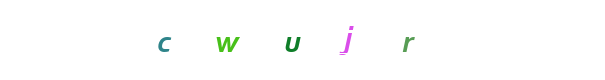C: (212, 0, 292, 80)
J: (262, 0, 342, 80)
R: (307, 0, 387, 80)
U: (230, 0, 310, 80)
W: (223, 0, 303, 80)
